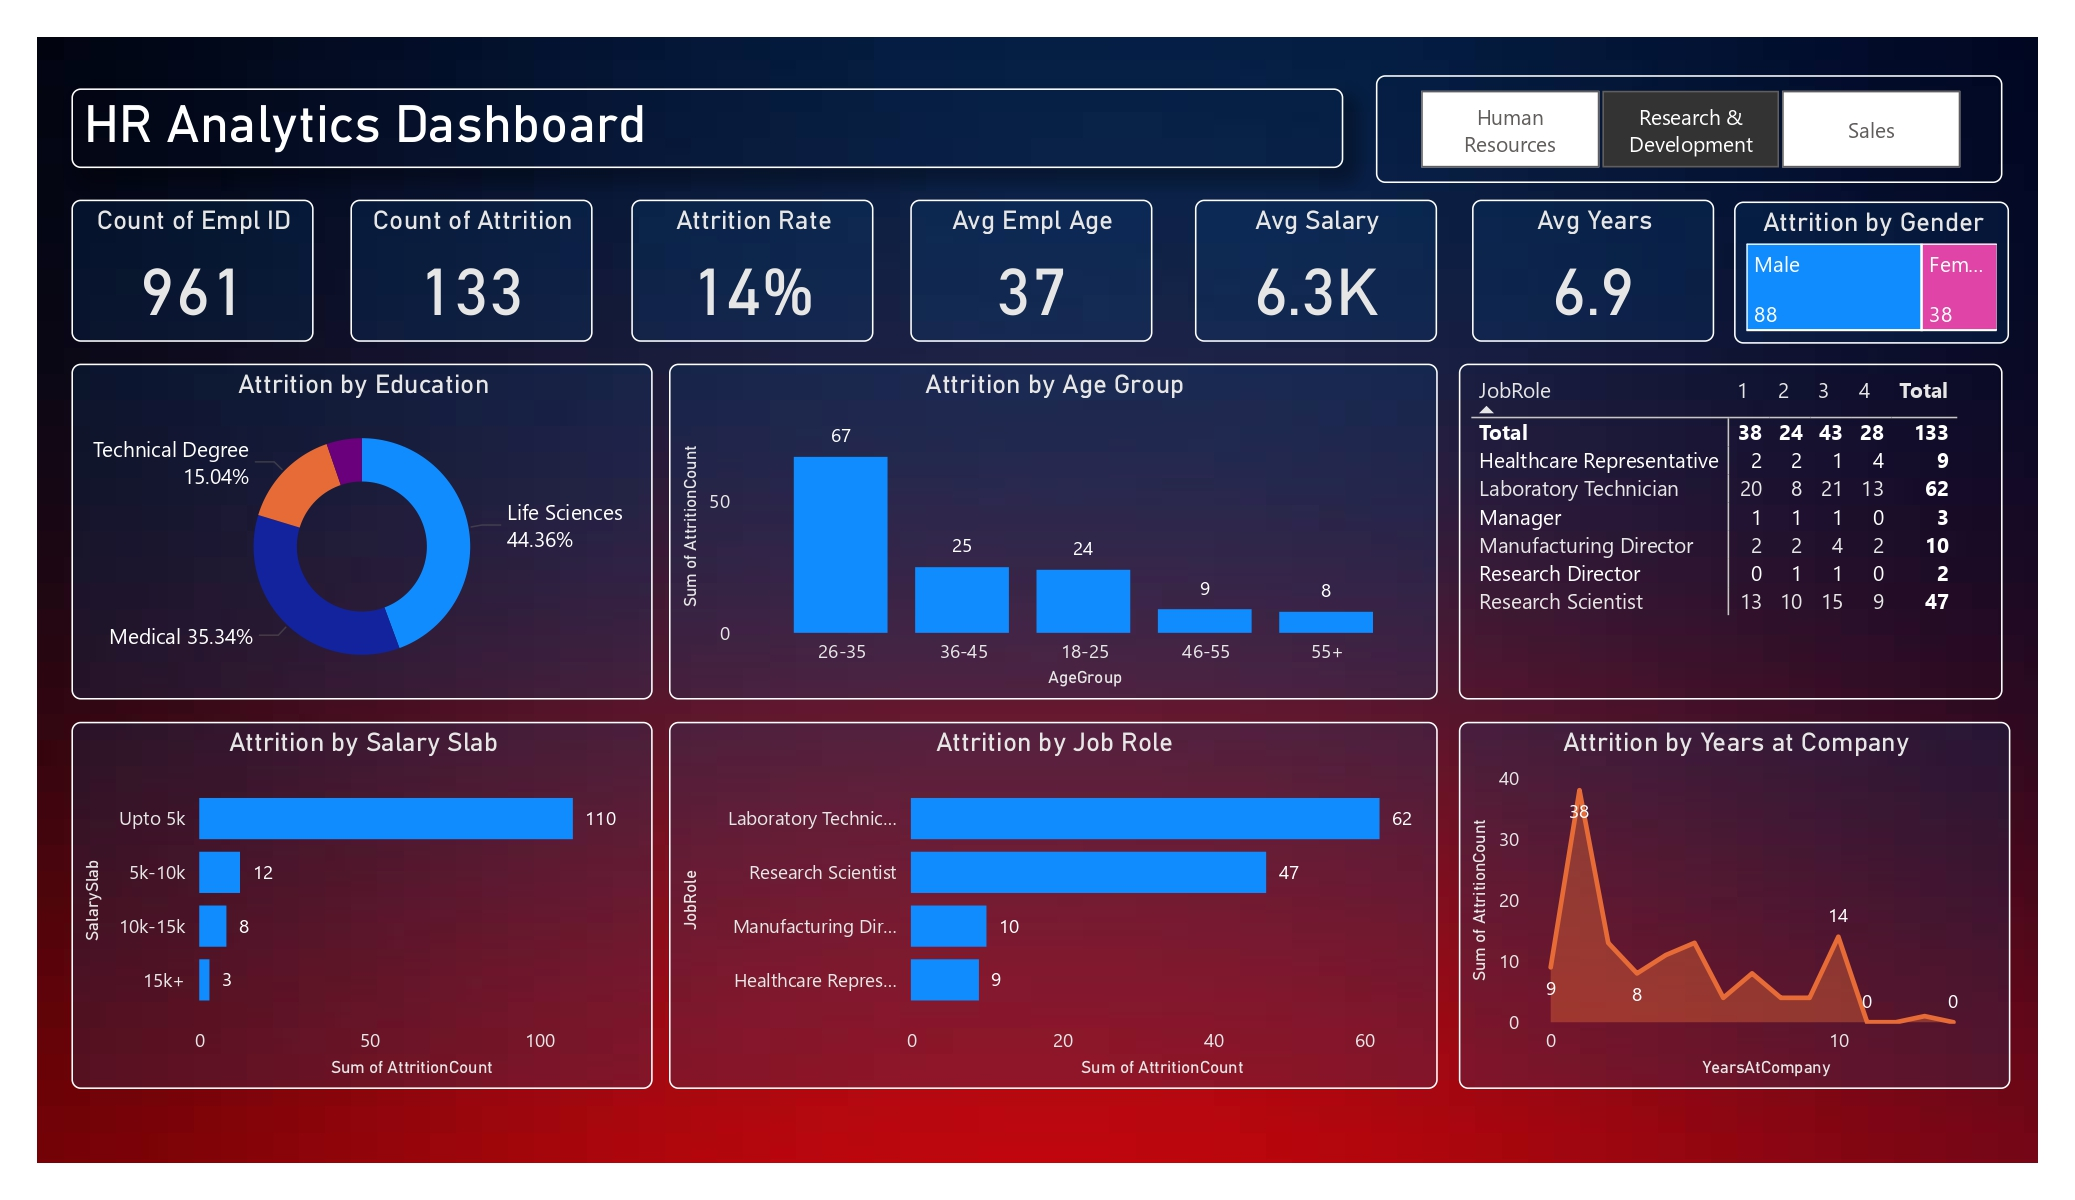

Layout of this report page (visuals, bound fields, positions):
{"tool":"powerbi","page":{"name":"Page 1","canvas":[1280,720],"ordinal":0},"visuals":[{"type":"card","title":"Count of Empl ID","fields":{"Values":["CountNonNull(HR_Analytics.EmpID)"]},"box":[21.6,104.1,155.1,90.6],"z":0},{"type":"card","title":"Count of Attrition","fields":{"Values":["Sum(HR_Analytics.AttritionCount)"]},"box":[200,104.1,155.1,90.6],"z":1000},{"type":"card","title":"Attrition Rate","fields":{"Values":["HR_Analytics.AttritionRate"]},"box":[379.7,104.1,155.1,90.6],"z":2000},{"type":"card","title":"Avg Empl Age","fields":{"Values":["Avg(HR_Analytics.Age)"]},"box":[558.1,104.1,155.1,90.6],"z":3000},{"type":"card","title":"Avg Salary","fields":{"Values":["Avg(HR_Analytics.MonthlyIncome)"]},"box":[740.6,104.1,155.1,90.6],"z":4000},{"type":"card","title":"Avg Years","fields":{"Values":["Avg(HR_Analytics.YearsAtCompany)"]},"box":[917.6,104.1,155.1,90.6],"z":5000},{"type":"donutChart","title":"Attrition by Education","fields":{"Category":["HR_Analytics.EducationField"],"Y":["Sum(HR_Analytics.AttritionCount)"]},"box":[21.2,208.2,371.8,215.3],"z":6000},{"type":"columnChart","title":"Attrition by Age Group","fields":{"Category":["HR_Analytics.AgeGroup"],"Y":["Sum(HR_Analytics.AttritionCount)"]},"box":[404.7,208.2,491.8,215.3],"z":7000},{"type":"pivotTable","fields":{"Rows":["HR_Analytics.JobRole"],"Columns":["HR_Analytics.JobSatisfaction"],"Values":["Sum(HR_Analytics.AttritionCount)"]},"box":[909.4,208.2,348.2,215.3],"z":8000},{"type":"barChart","title":"Attrition by Salary Slab","fields":{"Category":["HR_Analytics.SalarySlab"],"Y":["Sum(HR_Analytics.AttritionCount)"]},"box":[21.2,437.6,371.8,235.3],"z":9000},{"type":"barChart","title":"Attrition by Job Role","fields":{"Category":["HR_Analytics.JobRole","HR_Analytics.SalarySlab"],"Y":["Sum(HR_Analytics.AttritionCount)"]},"box":[404.7,437.6,491.8,235.3],"z":10000},{"type":"areaChart","title":"Attrition by Years at Company","fields":{"Category":["HR_Analytics.YearsAtCompany"],"Y":["Sum(HR_Analytics.AttritionCount)"]},"box":[909.4,437.6,352.9,235.3],"z":11000},{"type":"treemap","title":"Attrition by Gender","fields":{"Group":["HR_Analytics.Gender"],"Values":["Sum(HR_Analytics.AttritionCount)"]},"box":[1085.9,104.7,176.5,90.6],"z":12000},{"type":"slicer","fields":{"Values":["HR_Analytics.Department"]},"box":[856.5,23.5,401.2,69.4],"z":13000},{"type":"textbox","title":"HR Analytics Dashboard","box":[21.2,32.9,814.1,50.6],"z":14000}]}

Visuals, with their boxes in screenshot pixels (x1, y1, x2, y2):
"Count of Empl ID" card: 71 200 314 342
"Count of Attrition" card: 350 200 592 342
"Attrition Rate" card: 631 200 873 342
"Avg Empl Age" card: 910 200 1152 342
"Avg Salary" card: 1195 200 1437 342
"Avg Years" card: 1471 200 1714 342
"Attrition by Education" donutChart: 71 363 652 699
"Attrition by Age Group" columnChart: 670 363 1438 699
pivotTable - HR_Analytics.JobRole x HR_Analytics.JobSatisfaction: 1458 363 2002 699
"Attrition by Salary Slab" barChart: 71 721 652 1089
"Attrition by Job Role" barChart: 670 721 1438 1089
"Attrition by Years at Company" areaChart: 1458 721 2010 1089
"Attrition by Gender" treemap: 1734 201 2010 343
slicer - HR_Analytics.Department: 1376 74 2003 183
"HR Analytics Dashboard" textbox: 71 89 1343 168
